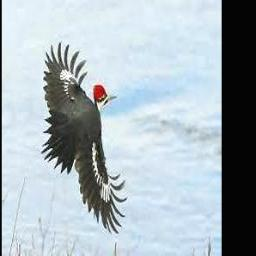Woodpecker: (41, 40, 128, 233)
